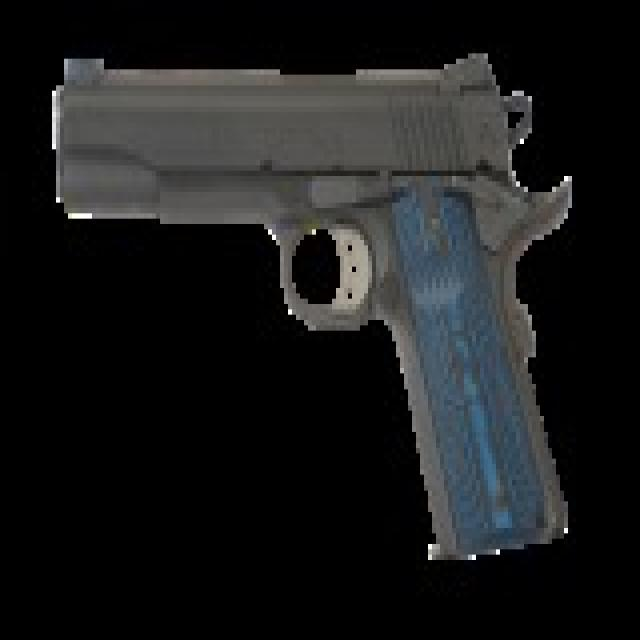Gun: (44, 26, 609, 598)
